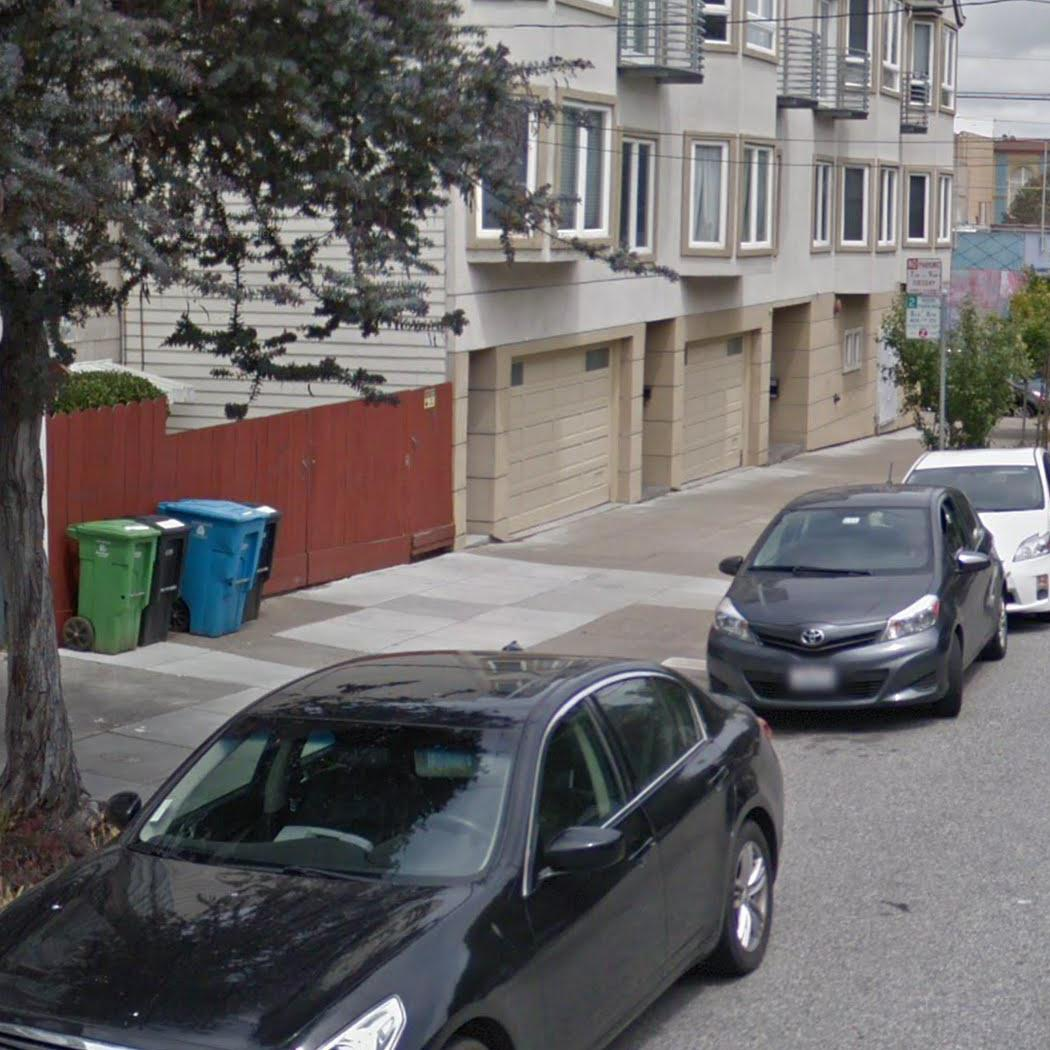2 Hour Parking: (902, 295, 943, 341)
No Parking: (905, 256, 945, 296)
